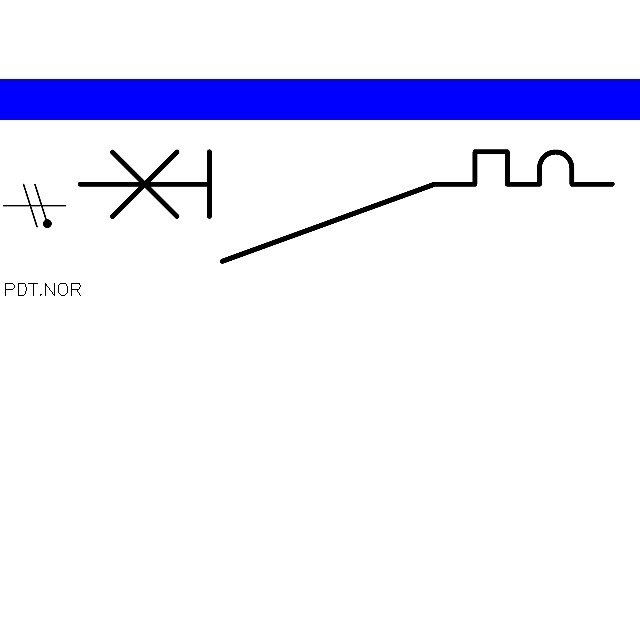interruptor_termomagnetico: (66, 138, 625, 275)
